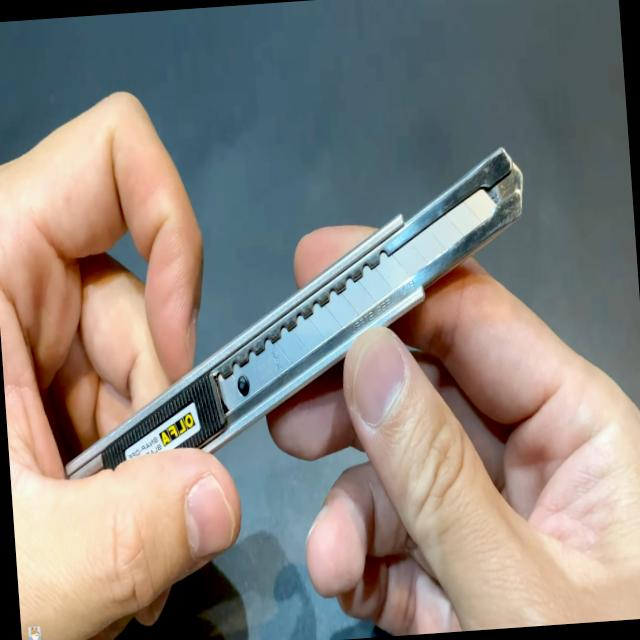cutter: (0, 32, 640, 640)
